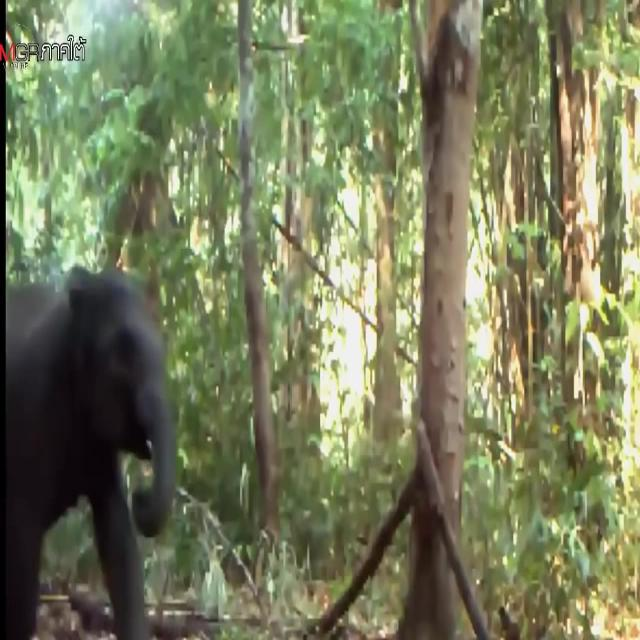Elephant: (0, 275, 172, 607)
